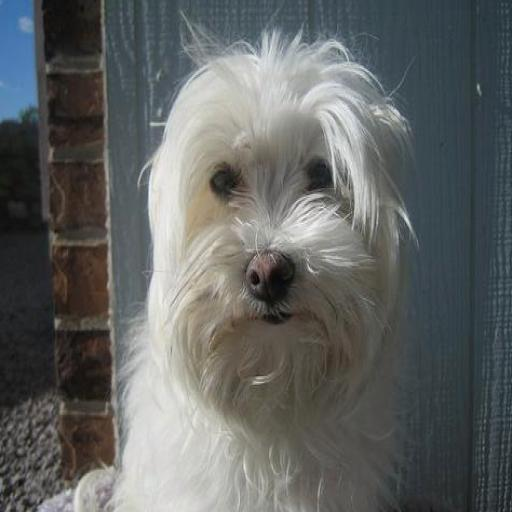dog_face: (156, 52, 393, 389)
